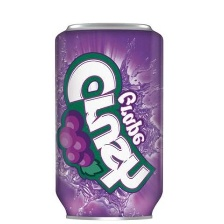can: (51, 17, 173, 222)
